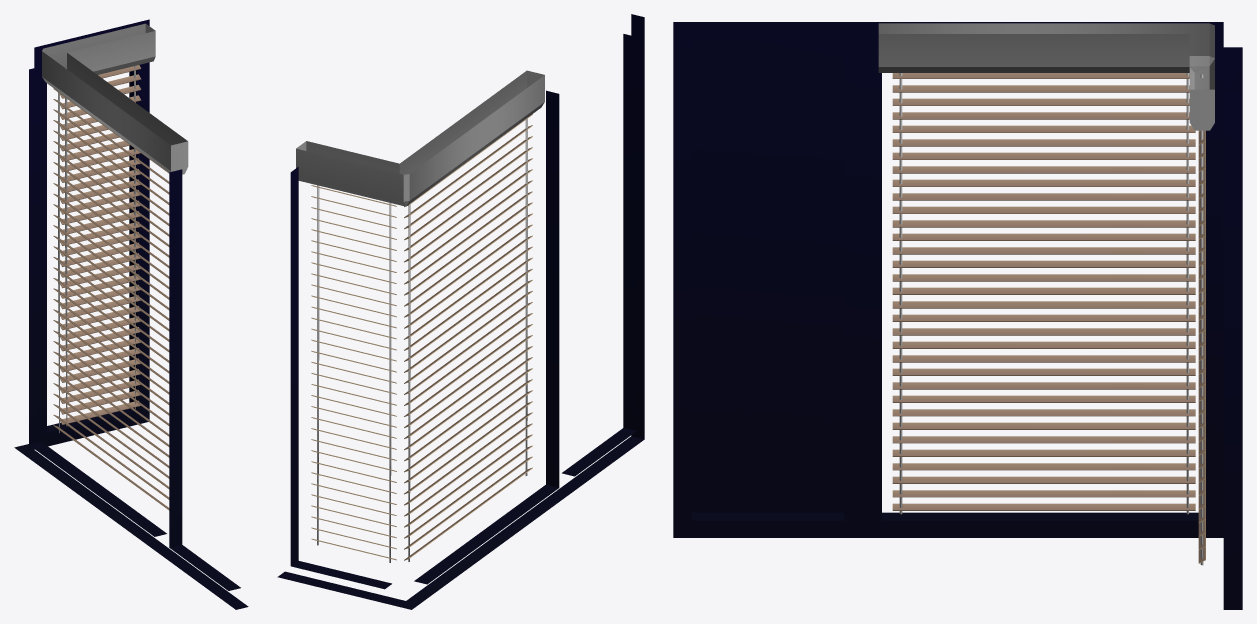
Rendered from m_thomas_windows.fbx.
3 renders of one model, left to right at view 1: azimuth 30°, elevation 25°; view 2: azimuth 150°, elevation 25°; view 3: azimuth 270°, elevation 25°, orthographic. The views are drawn at different scales.
Parts seen in each view (by area): view 1: m_thomas_windows; view 2: m_thomas_windows; view 3: m_thomas_windows.
Part boxes in pixels (x1,y1,x2,y2): m_thomas_windows: [14, 19, 248, 609]; m_thomas_windows: [277, 14, 644, 609]; m_thomas_windows: [673, 22, 1242, 609].
Bounding box in the file's own units: 100 × 300 × 300.
